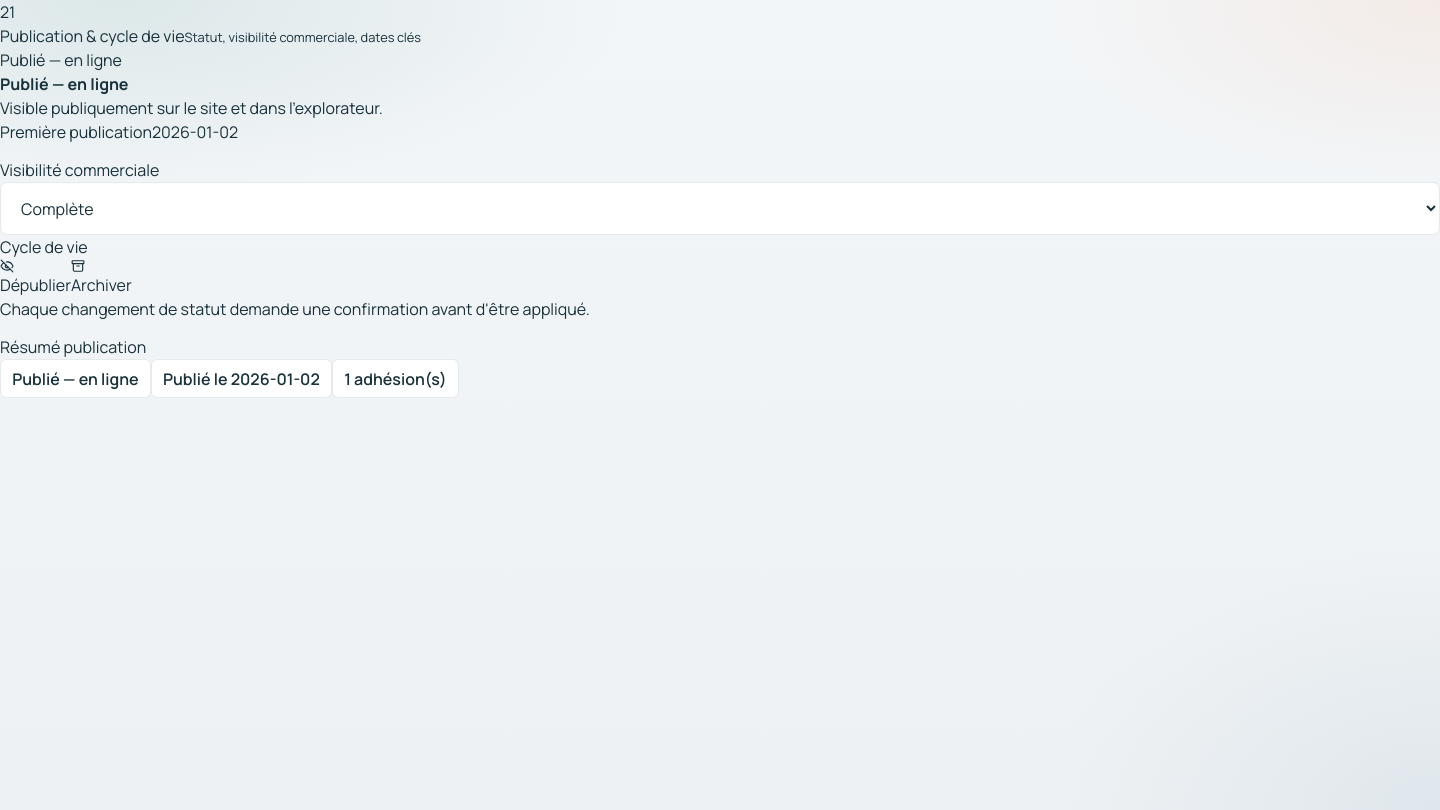
it: SectionPublication (§21) › opens a confirmation dialog instead of changing the status immediately
Expected: the text "Archiver la fiche ?" is not shown
Click the button "Archiver": (101, 278) [71, 259, 132, 297]
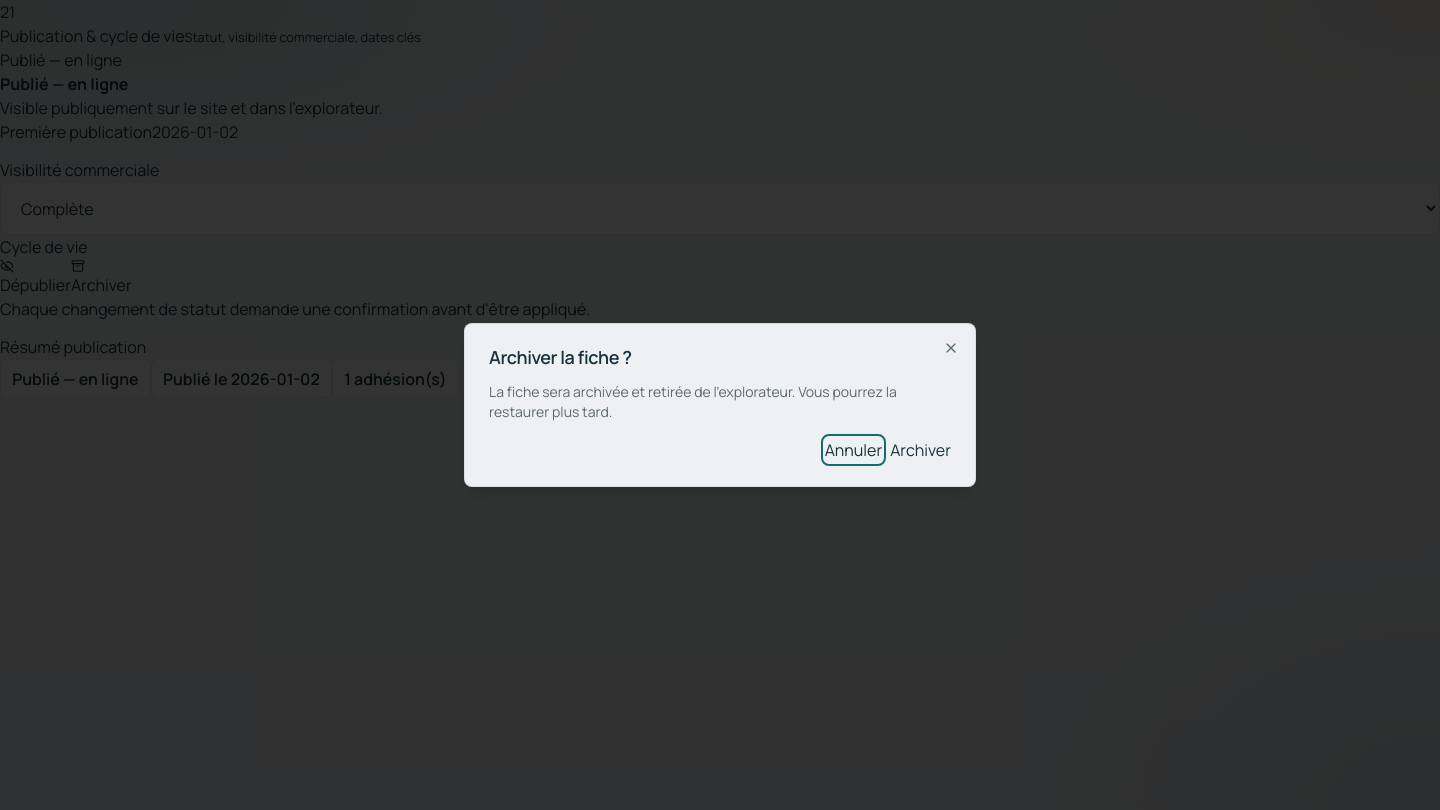
Expected: the heading "Archiver la fiche ?" is shown, [489, 345, 632, 369]
